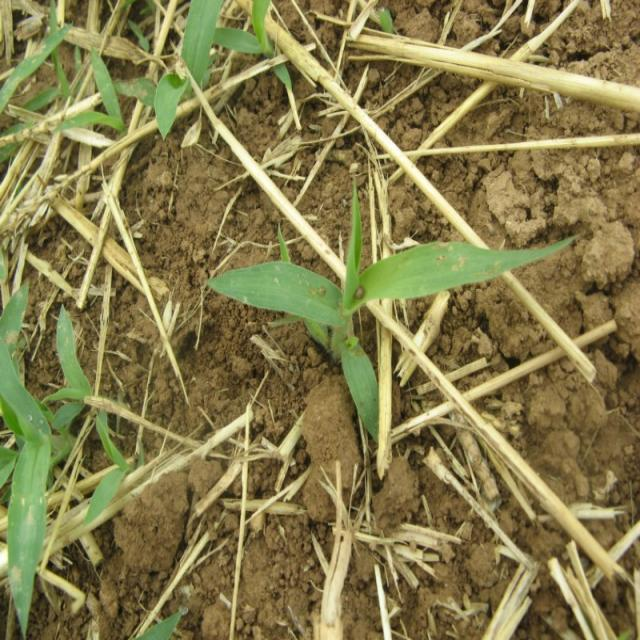bg: (203, 167, 577, 434)
